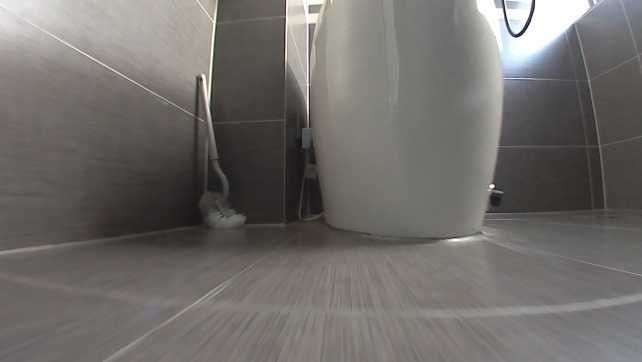toilet: (308, 1, 510, 239)
